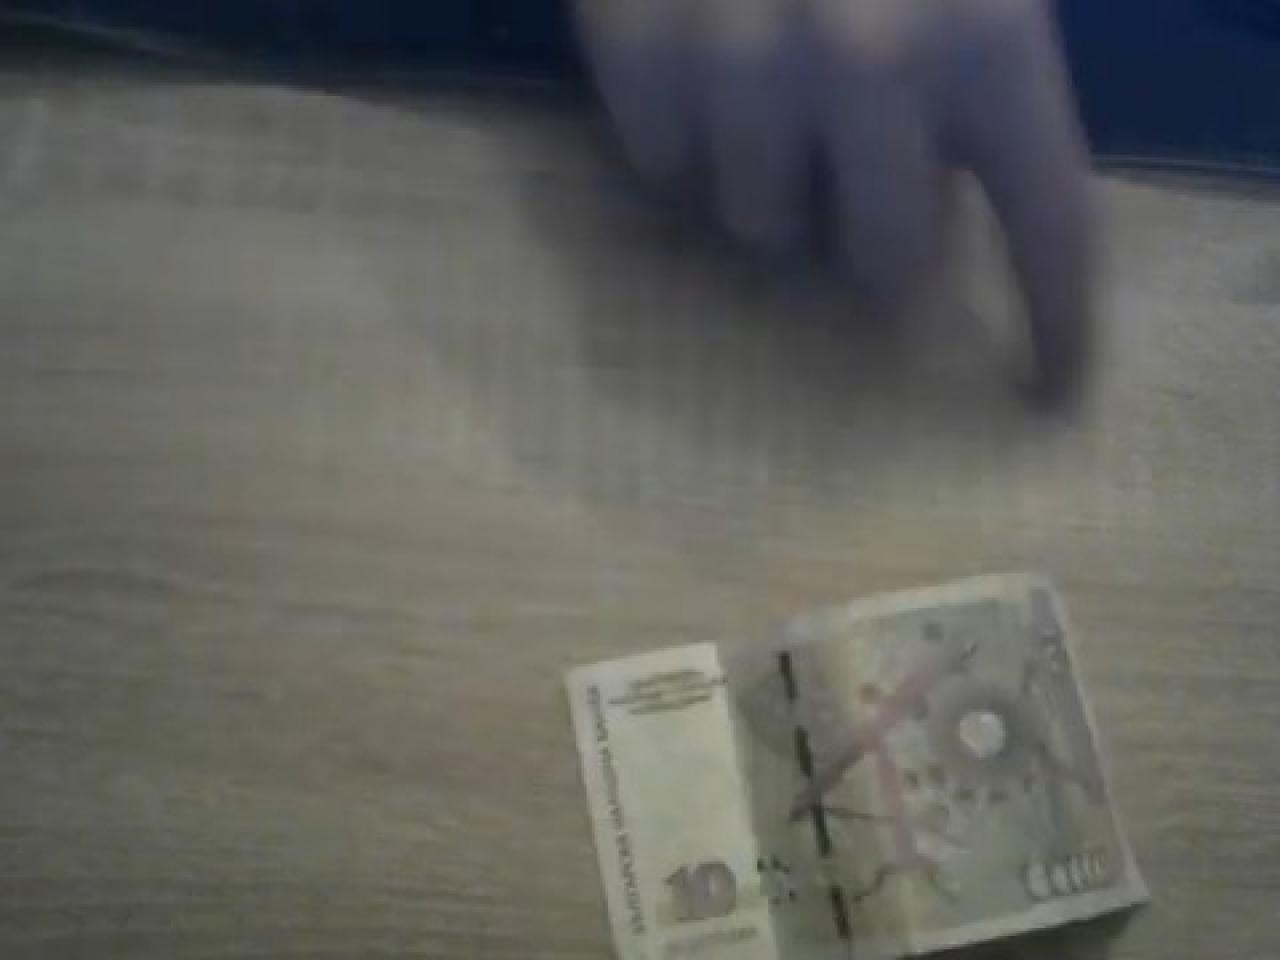10leva: (560, 574, 1149, 960)
